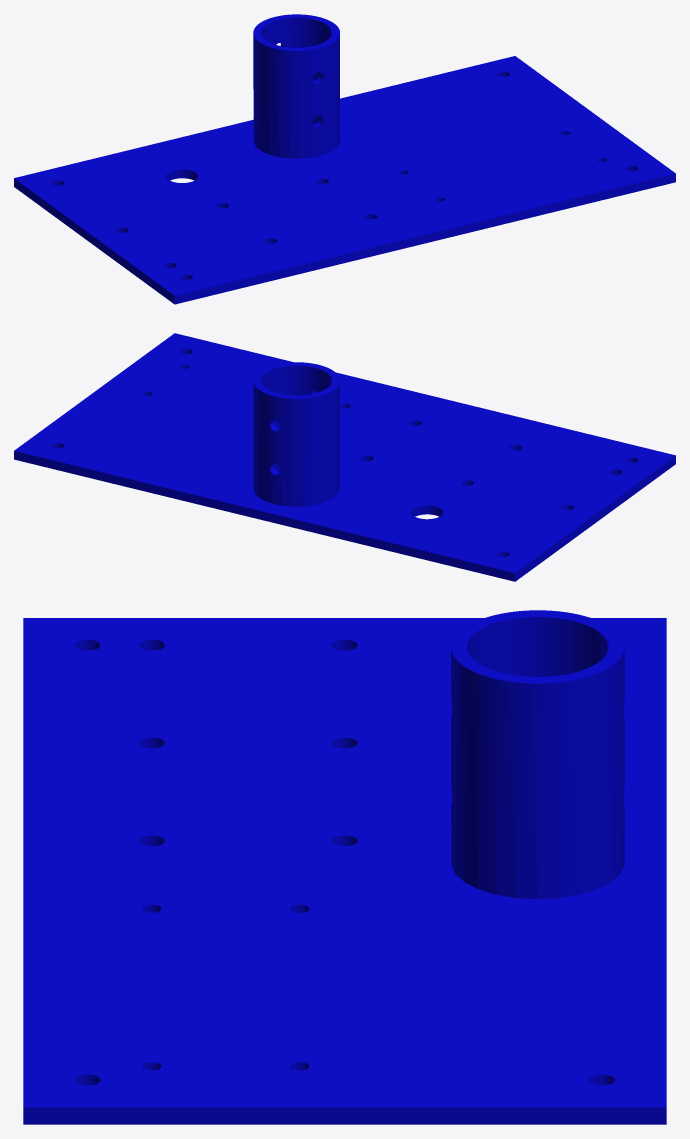
Rendered from smallRearPlatform.dae.
The picture shows the model from 3 angles, top to bottom: view 1: azimuth 30°, elevation 25°; view 2: azimuth 150°, elevation 25°; view 3: azimuth 270°, elevation 25°; orthographic projection. The views are drawn at different scales.
Visible parts, largest first — view 1: node0; view 2: node0; view 3: node0.
Part boxes in pixels (left/top/right/bottom): node0: left=14, top=14, right=675, bottom=304; node0: left=14, top=333, right=675, bottom=581; node0: left=23, top=610, right=666, bottom=1124.
Size of the model in its own units: 180 by 100 by 40.
